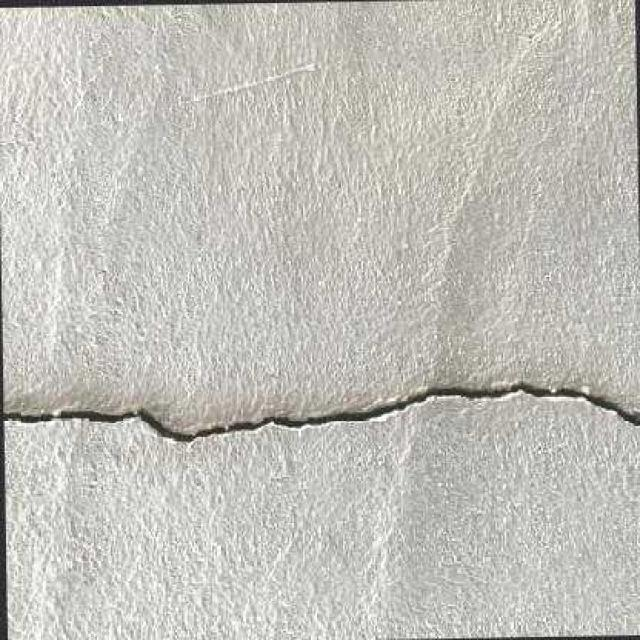D00: (2, 380, 640, 441)
